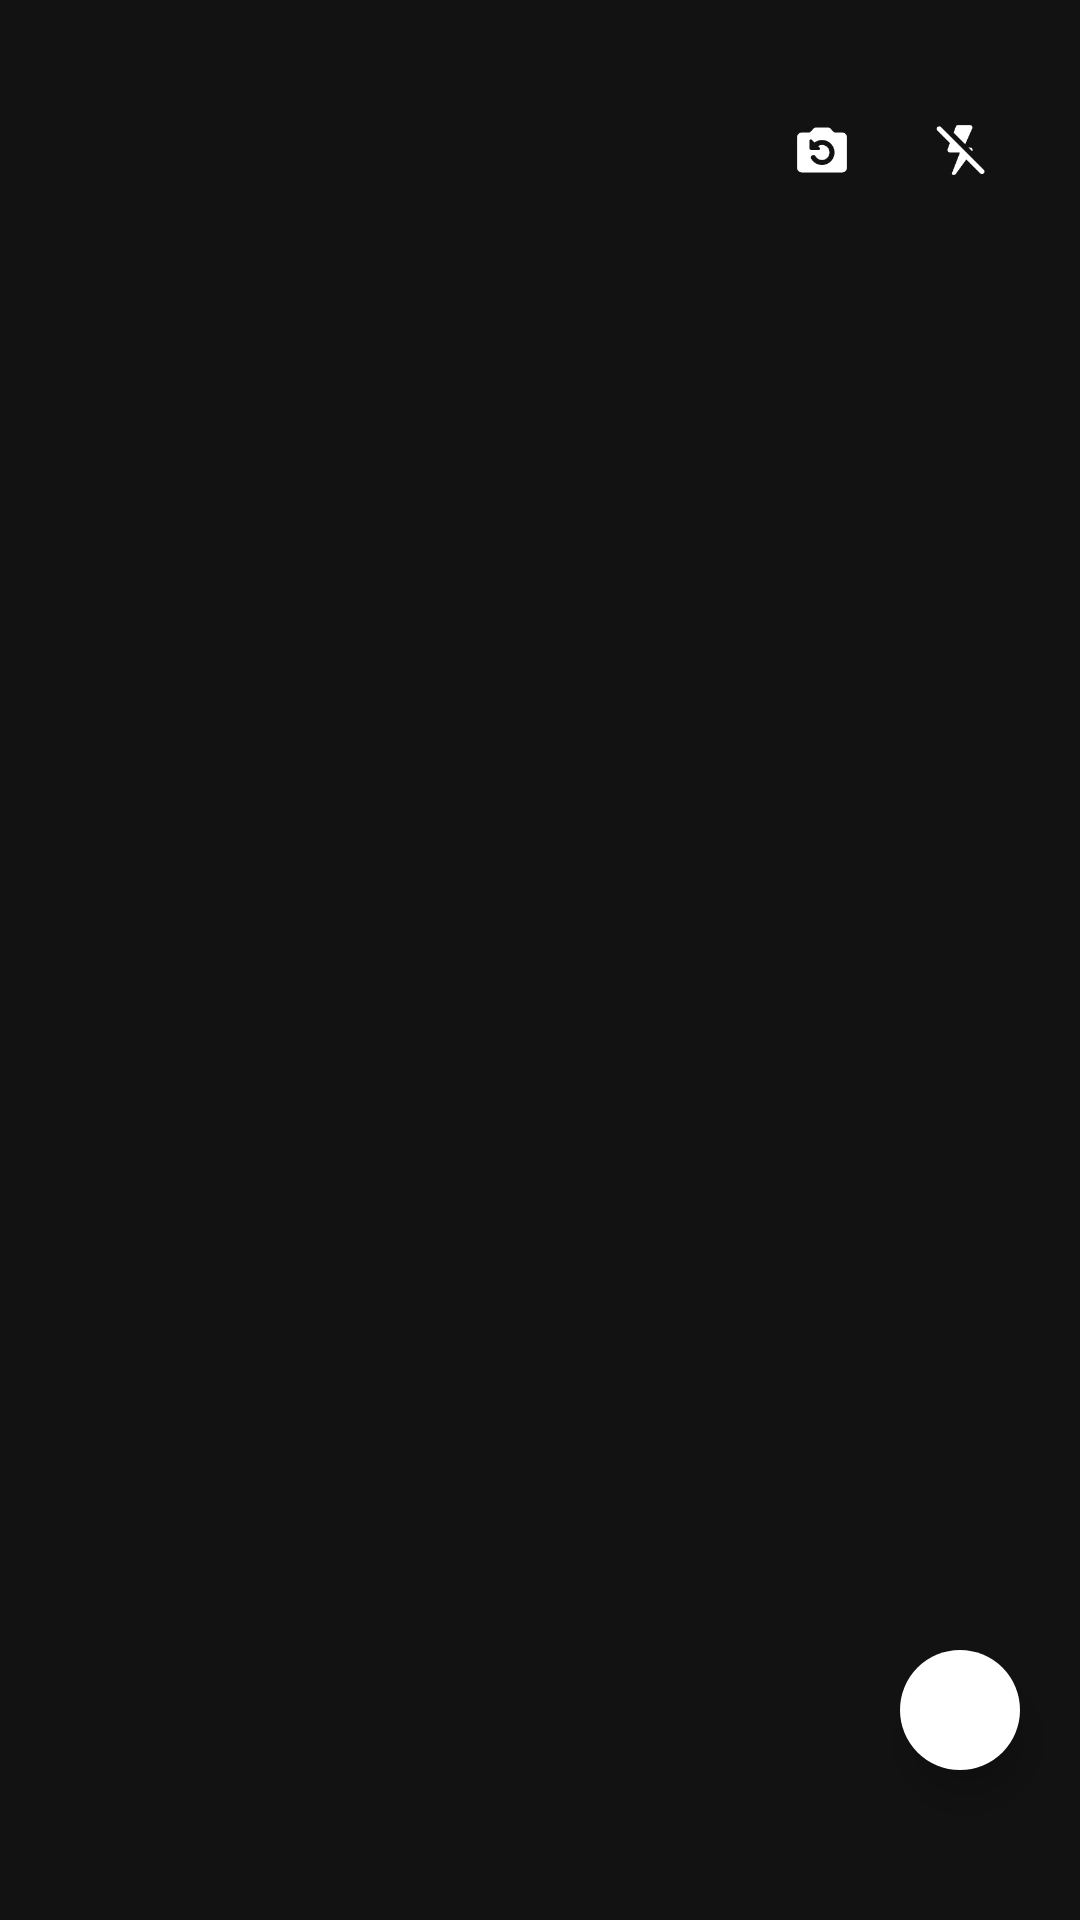

Named icons in this screenshot (1080w x 1920h) and their centers, (x=x, y=y):
ti flash off: (x=960, y=150)
ti switch camera: (x=822, y=150)
